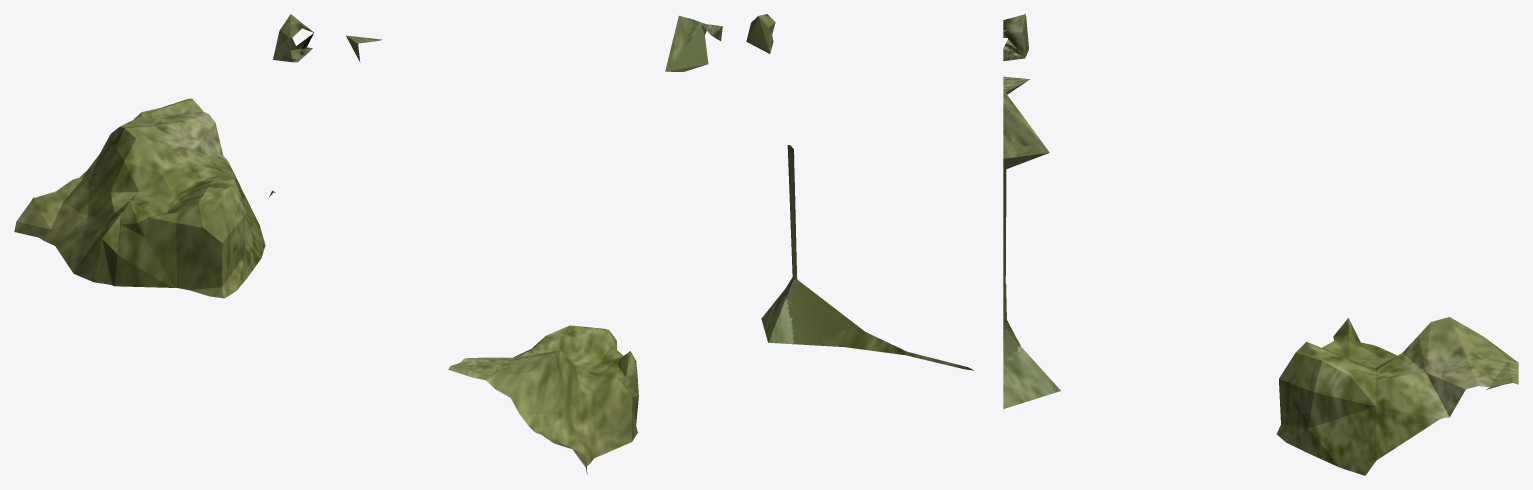
3 renders of one model, left to right at view 1: azimuth 30°, elevation 25°; view 2: azimuth 150°, elevation 25°; view 3: azimuth 270°, elevation 25°, orthographic. The views are drawn at different scales.
Bounding box in the file's own units: 2.68 × 2.47 × 2.95.
1 material, 1 textured.
